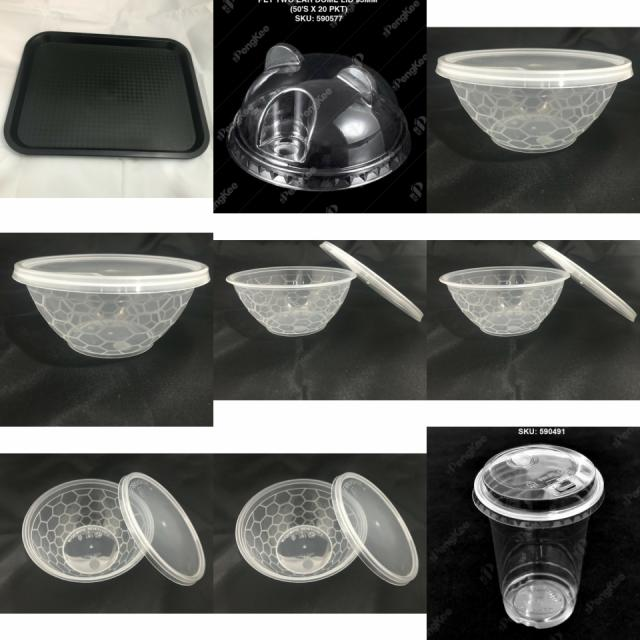Single-Use-Plastic: (228, 44, 410, 191), (4, 31, 209, 158), (472, 444, 604, 629), (12, 254, 210, 357), (436, 49, 632, 153), (235, 479, 368, 582), (22, 479, 154, 582), (331, 472, 419, 585), (119, 472, 205, 586), (439, 266, 570, 336), (226, 266, 356, 336), (534, 241, 636, 321), (320, 241, 421, 321)
